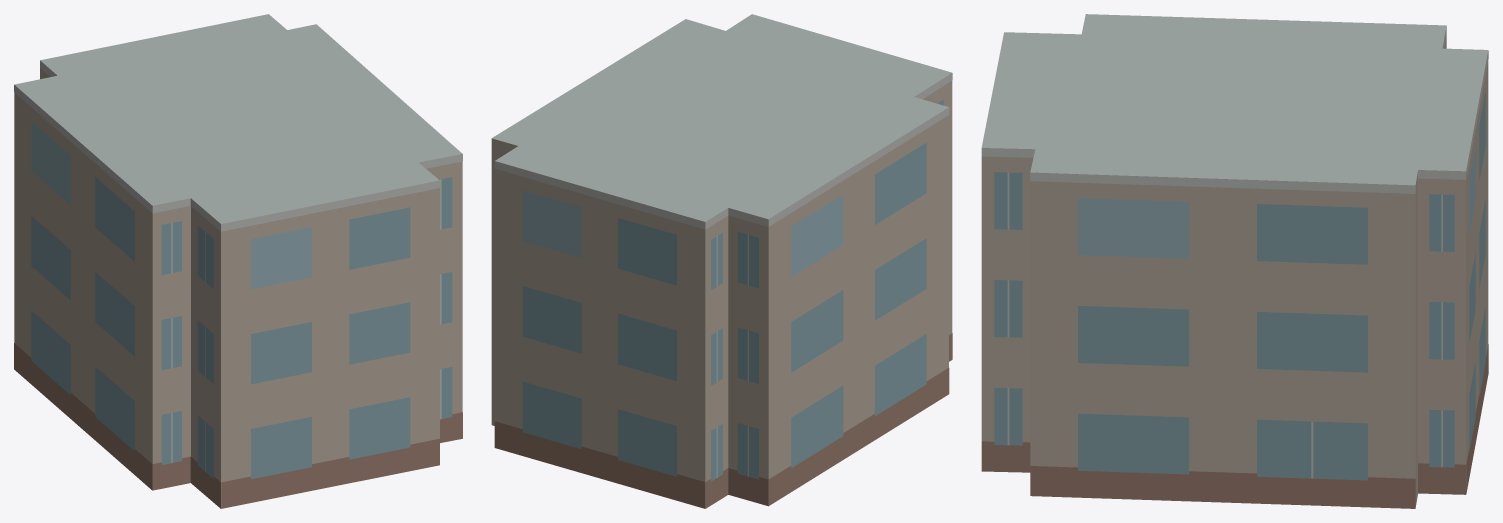
File: survey-upis-32718508.glb
3 views of the same model, side by side, from view 1: azimuth 30°, elevation 25°; view 2: azimuth 150°, elevation 25°; view 3: azimuth 270°, elevation 25° (orthographic). The views are drawn at different scales.
Parts seen in each view (by area): view 1: survey-upis-32718508.tmp; view 2: survey-upis-32718508.tmp; view 3: survey-upis-32718508.tmp.
Part boxes in pixels (<box>): survey-upis-32718508.tmp: <box>14,14,462,508</box>; survey-upis-32718508.tmp: <box>491,14,952,508</box>; survey-upis-32718508.tmp: <box>981,14,1488,508</box>.
Bounding box in the file's own units: 10.41 × 9.15 × 13.
